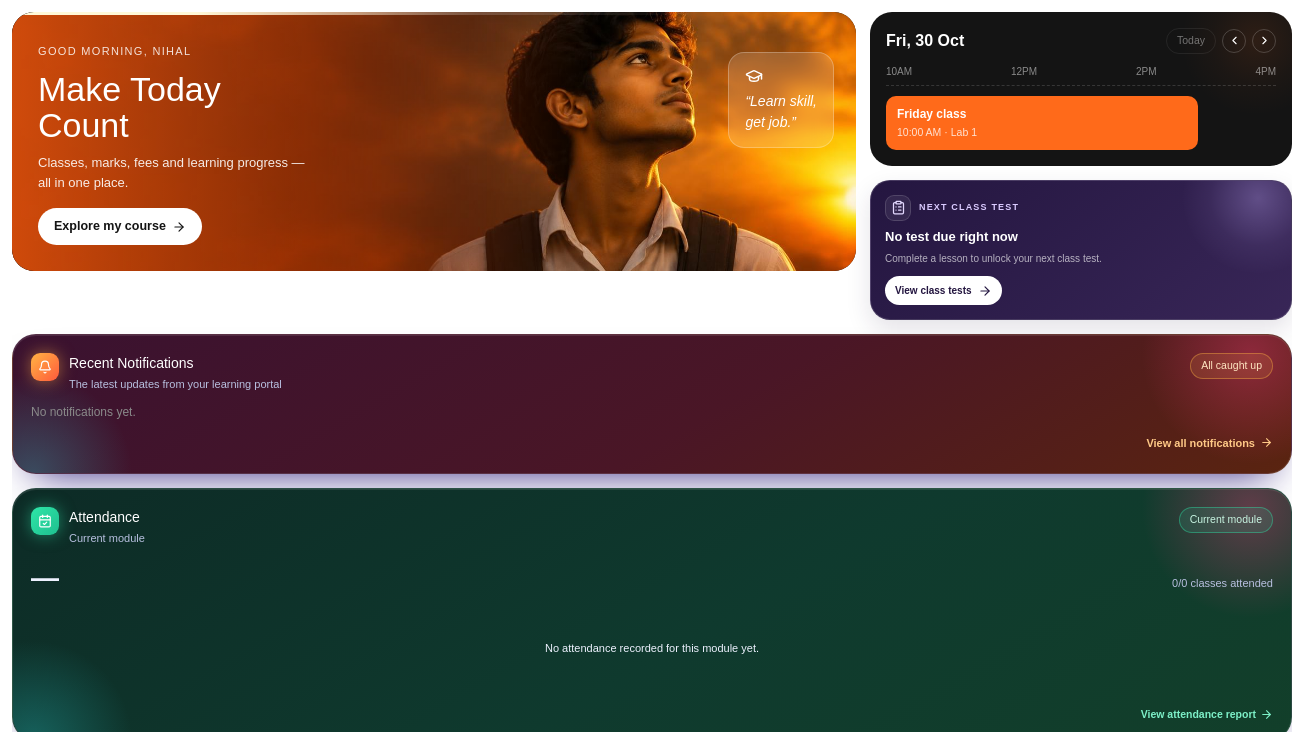
Scenario: dashboard schedule navigation › continues into the following week instead of stopping on Friday
This screenshot has width=1292, height=732.
Expected: the text "Fri, 30 Oct" is shown, [886,29,964,53]
Click the button named "Next day" at {"x": 1264, "y": 41}, box [1252,29,1276,53]
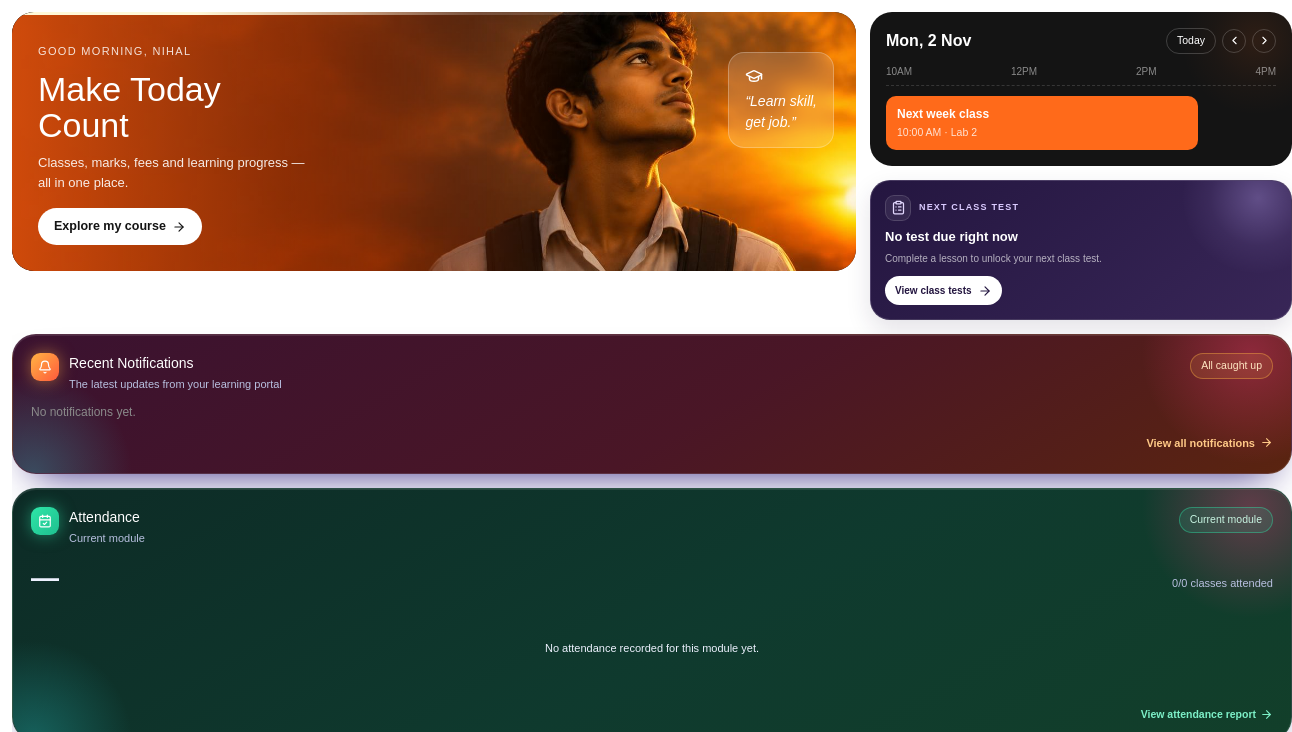
Expected: the text "Mon, 2 Nov" is shown, [886,29,971,53]
Expected: the text "Next week class" is shown, [897,105,989,123]
